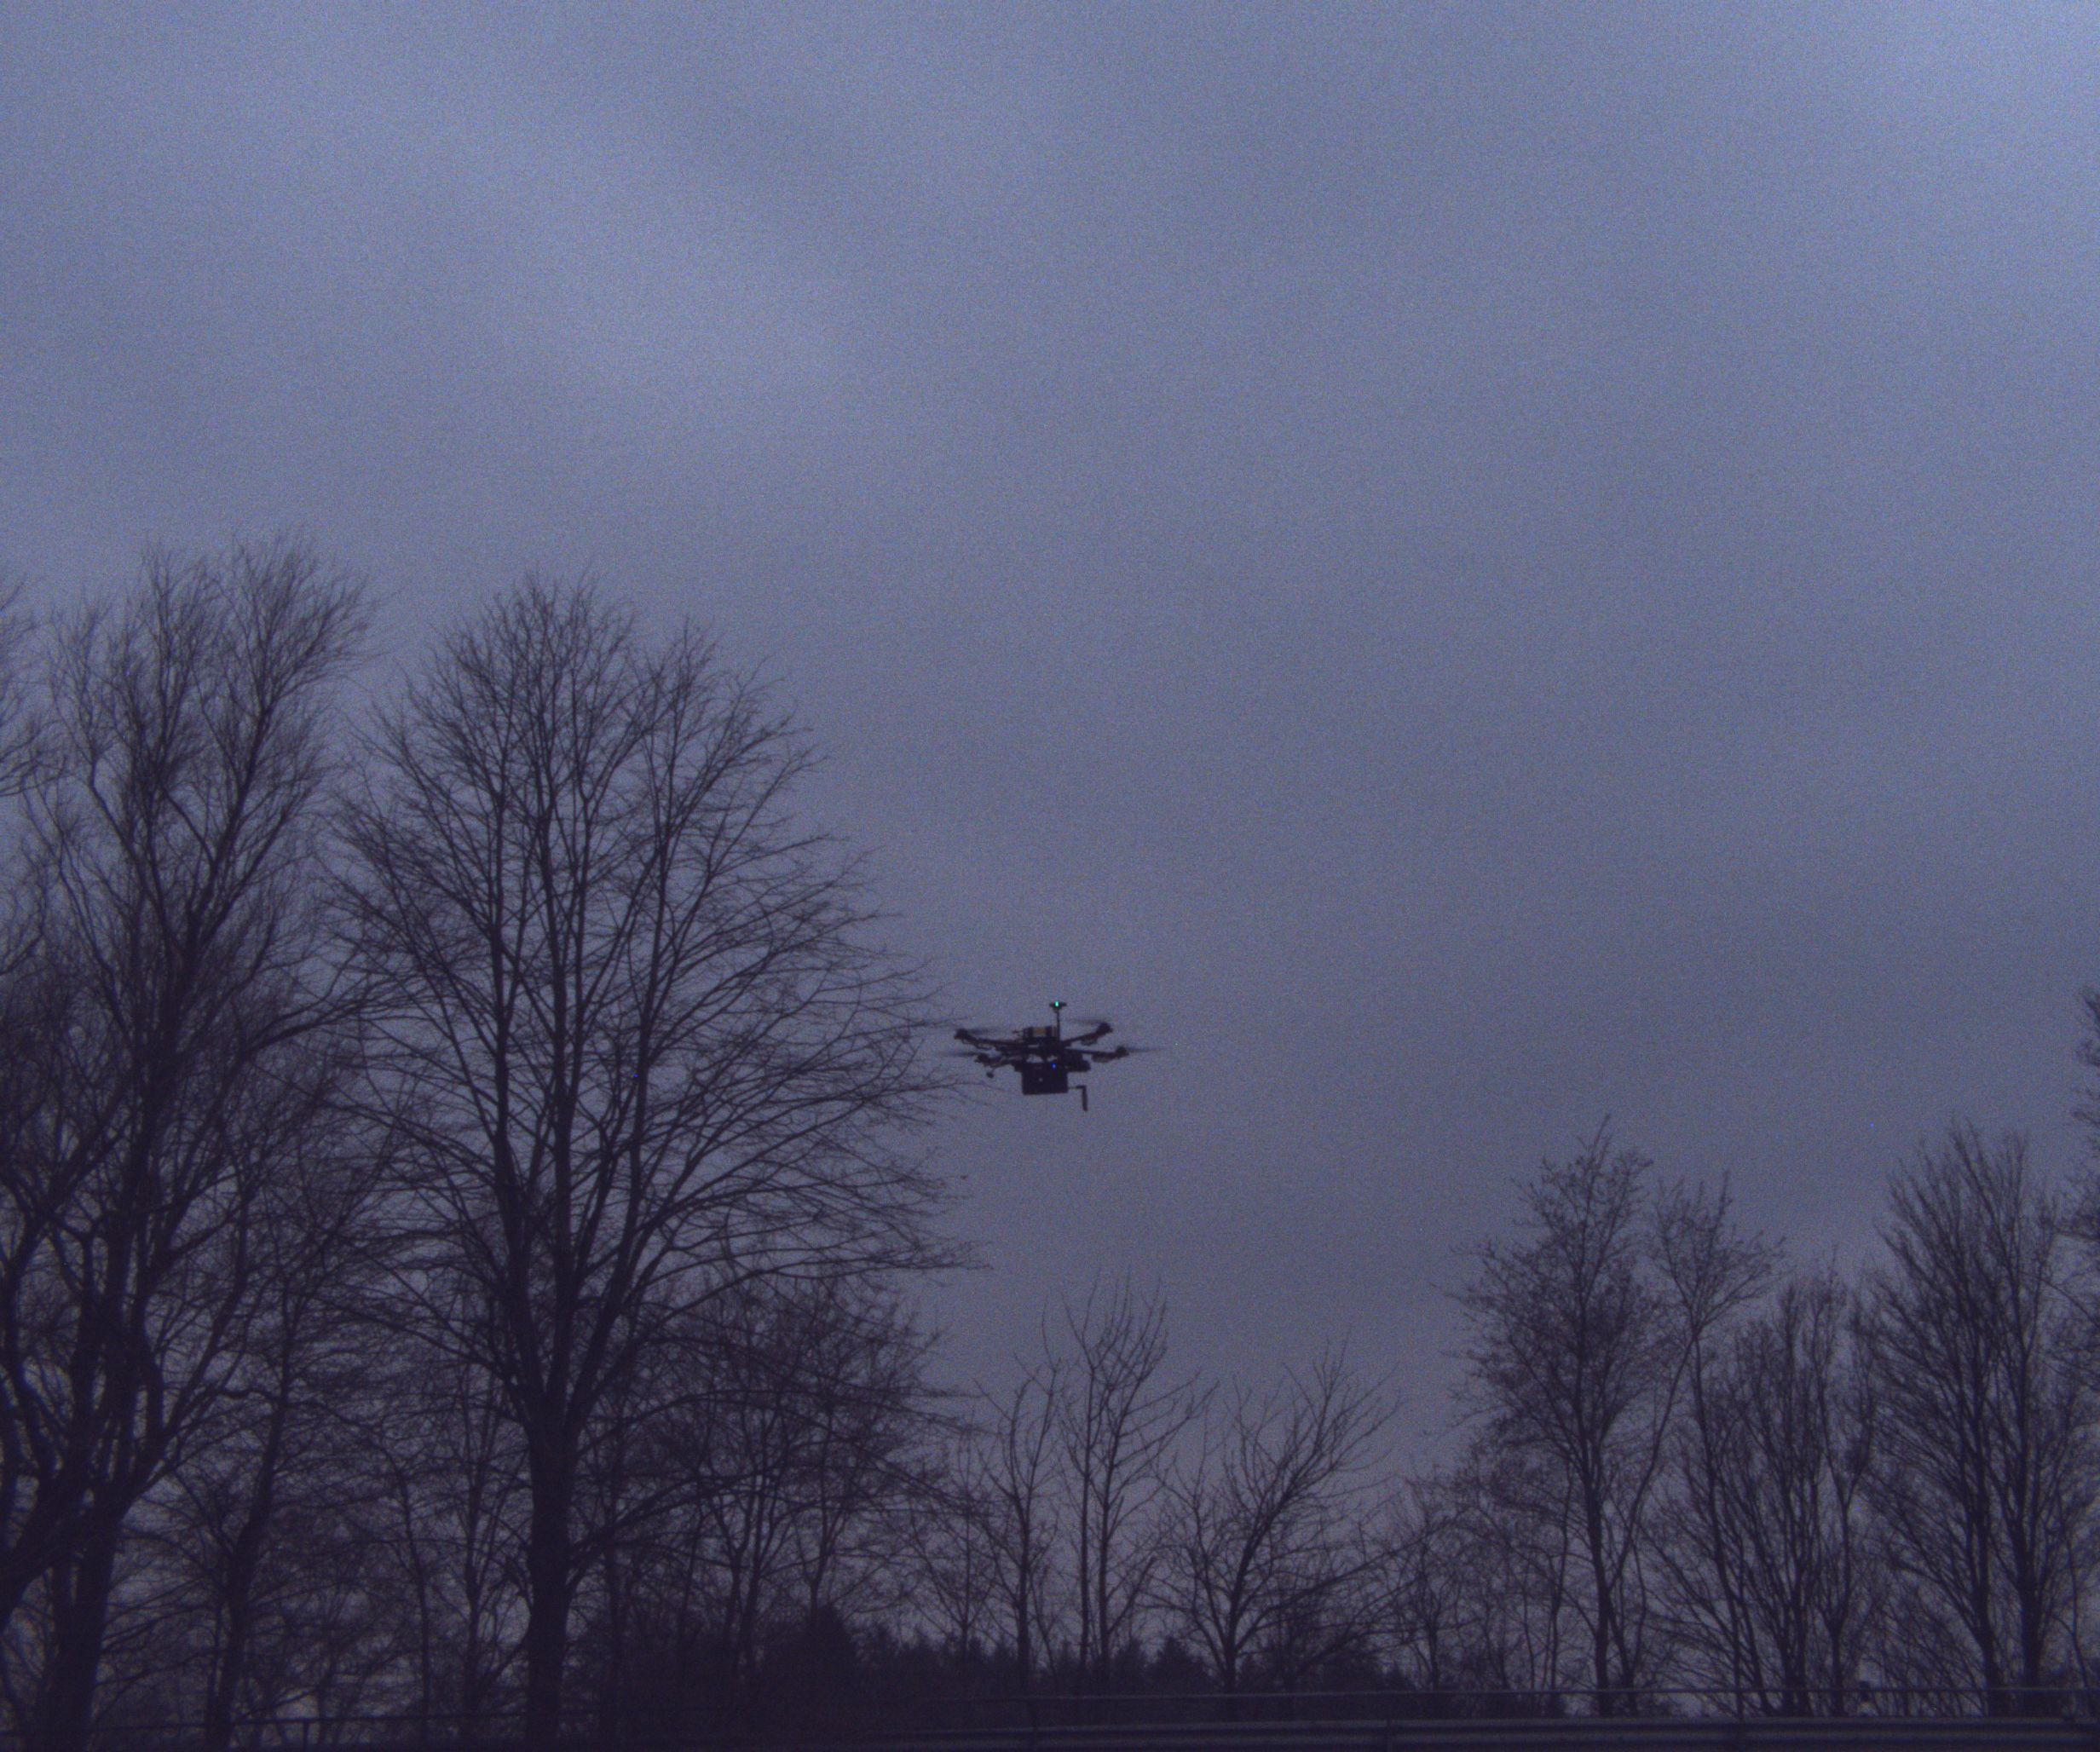Drohne: (919, 945, 1284, 1171)
